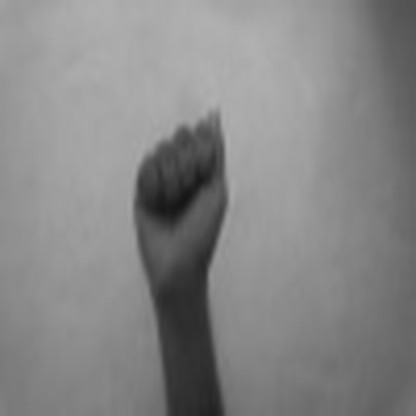a: (126, 90, 245, 280)
